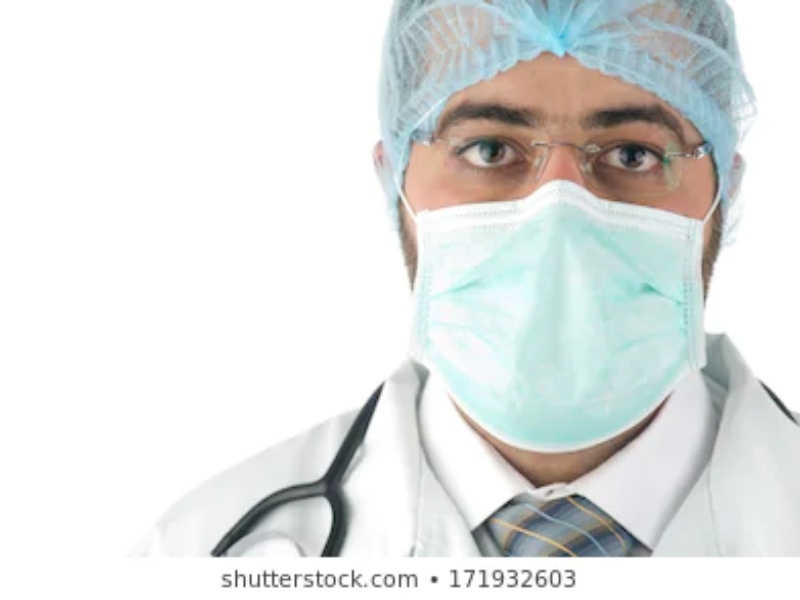ManaoArotava: (351, 2, 755, 463)
